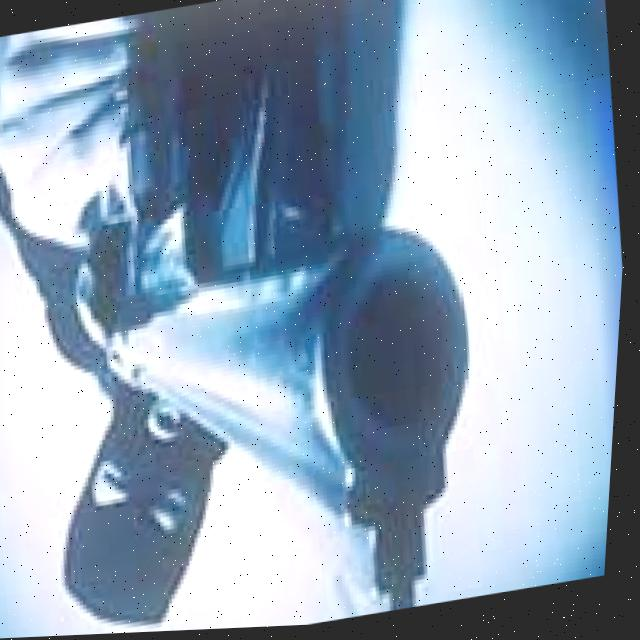pistol: (35, 30, 522, 638)
